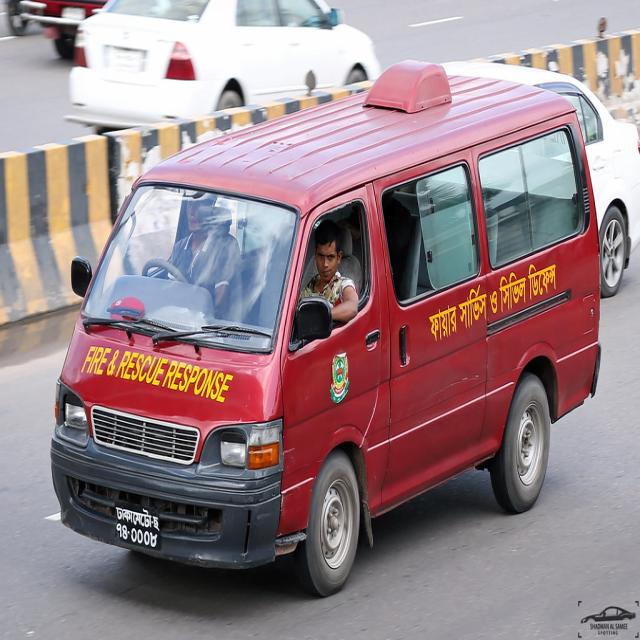red: (50, 73, 616, 587)
white: (69, 0, 379, 124)
